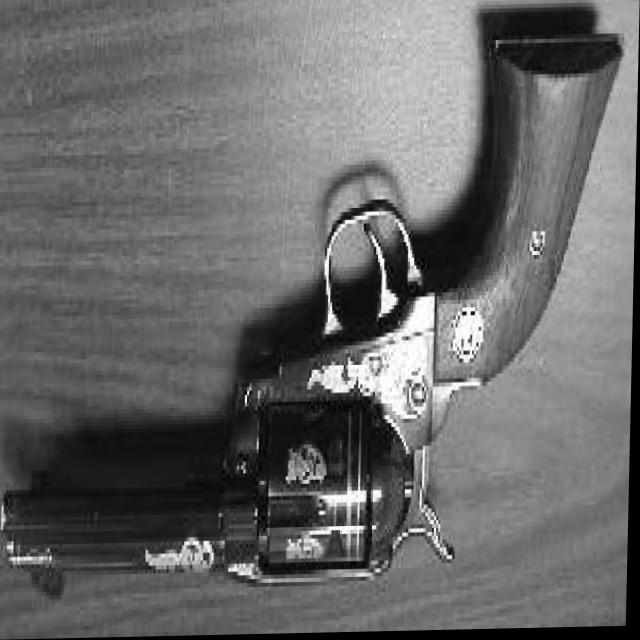handgun: (3, 32, 626, 601)
